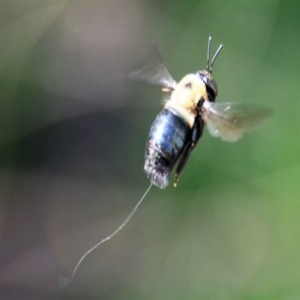bee: (129, 32, 279, 193)
